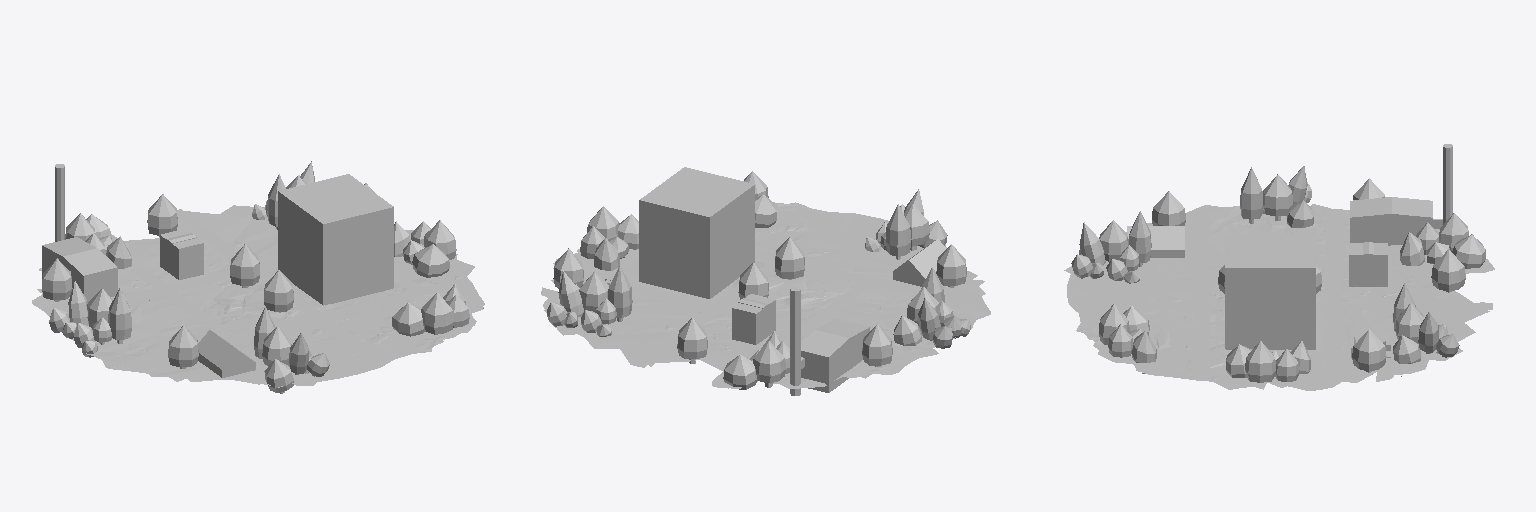
The model's file is town2.obj.
The picture shows the model from 3 angles: view 1: azimuth 30°, elevation 25°; view 2: azimuth 150°, elevation 25°; view 3: azimuth 270°, elevation 25°; orthographic projection.
Parts seen in each view (by area): view 1: Cube.035_Cube.022; view 2: Cube.035_Cube.022; view 3: Cube.035_Cube.022.
Boxes of the visible parts, box(x1,y1,x2,y2) form: Cube.035_Cube.022: box(32, 161, 484, 393); Cube.035_Cube.022: box(541, 167, 990, 395); Cube.035_Cube.022: box(1064, 144, 1494, 390).
Size of the model in its own units: 1.68 by 0.457 by 1.6.